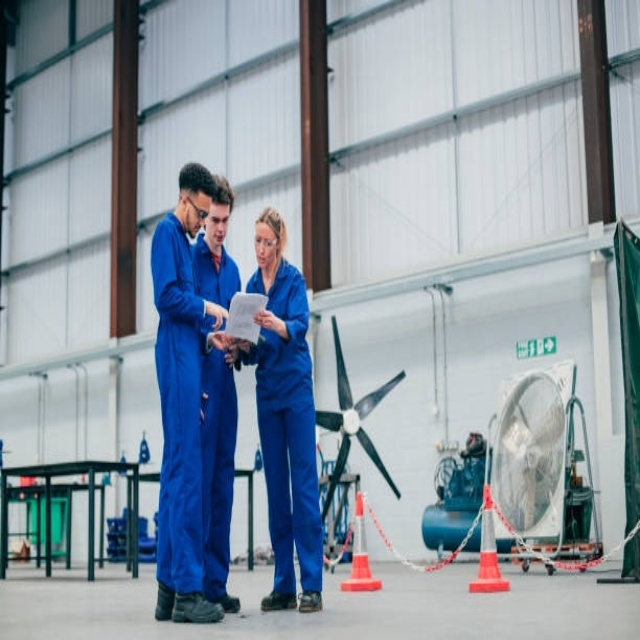Gafas: (184, 194, 211, 221), (253, 235, 279, 248)
Sin_gafas: (209, 209, 230, 226)
Sin_guantes: (253, 307, 282, 335), (222, 335, 254, 359), (205, 301, 228, 331)
Sin_mascara: (188, 223, 204, 242), (212, 231, 225, 248), (255, 253, 268, 267)
